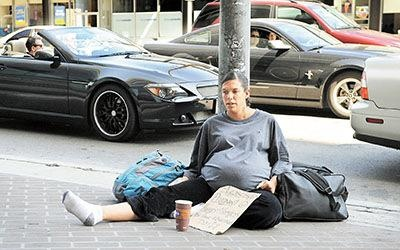falling: (52, 66, 308, 235)
